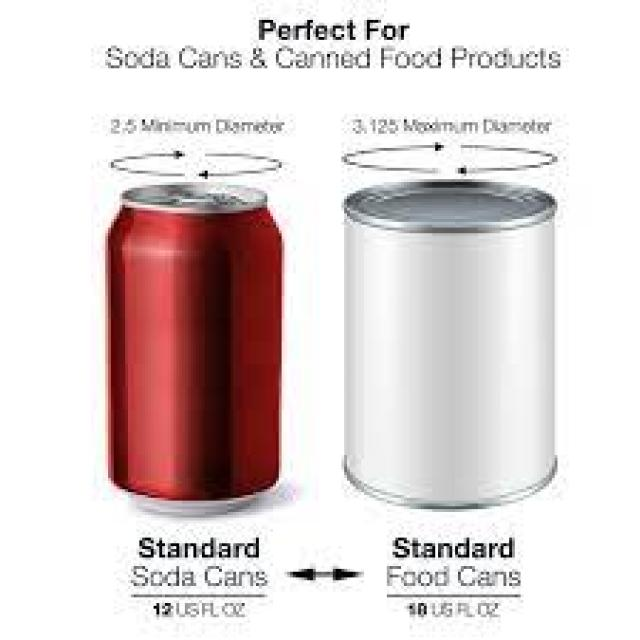Cans: (97, 177, 296, 520)
